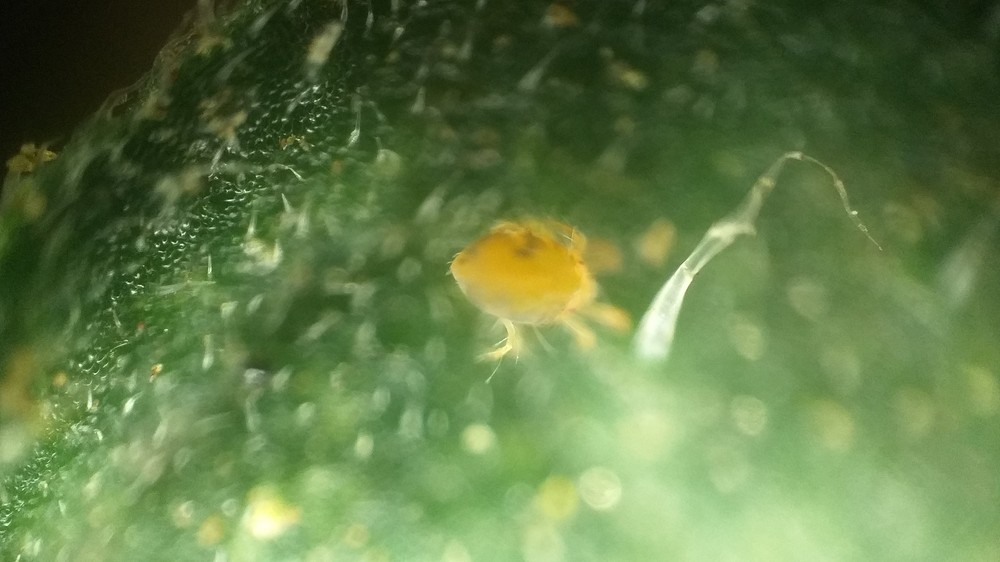Aracnido Rojo: (412, 210, 661, 384)
